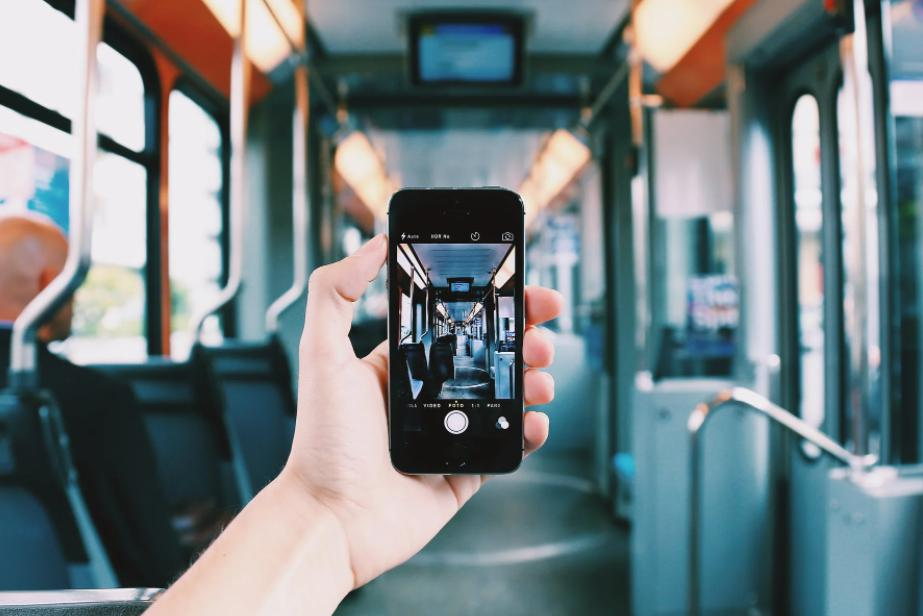mobile: (387, 185, 524, 477)
